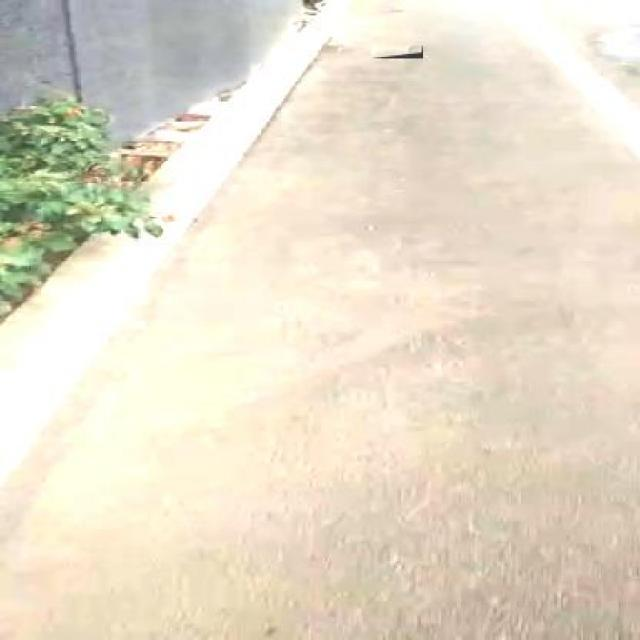Manhole: (372, 46, 423, 59)
